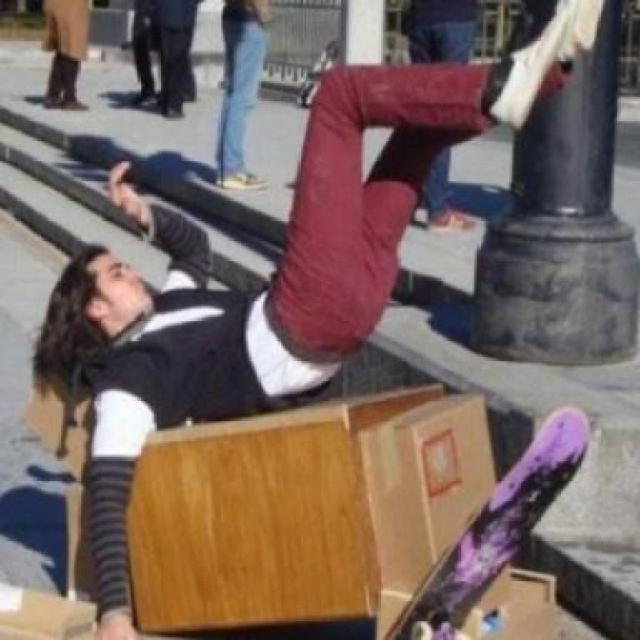fall: (22, 0, 609, 638)
